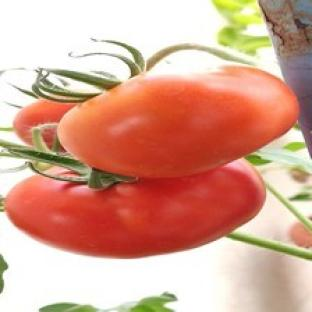Tomato: (58, 66, 298, 178), (5, 159, 266, 257), (13, 98, 75, 144)
